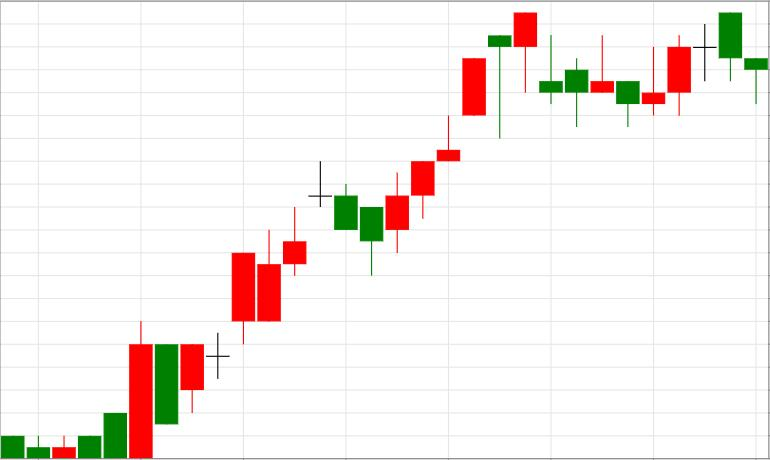hanging_man_fall: (385, 12, 537, 254)
